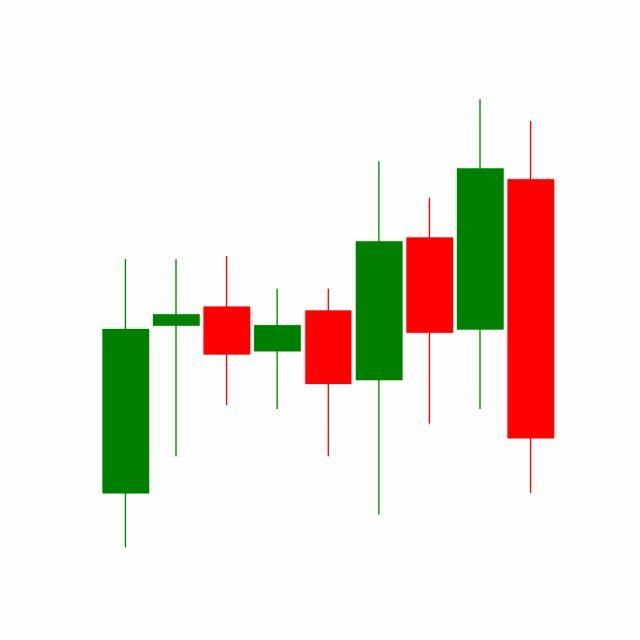Hikkake Pattern: (252, 100, 506, 521)
